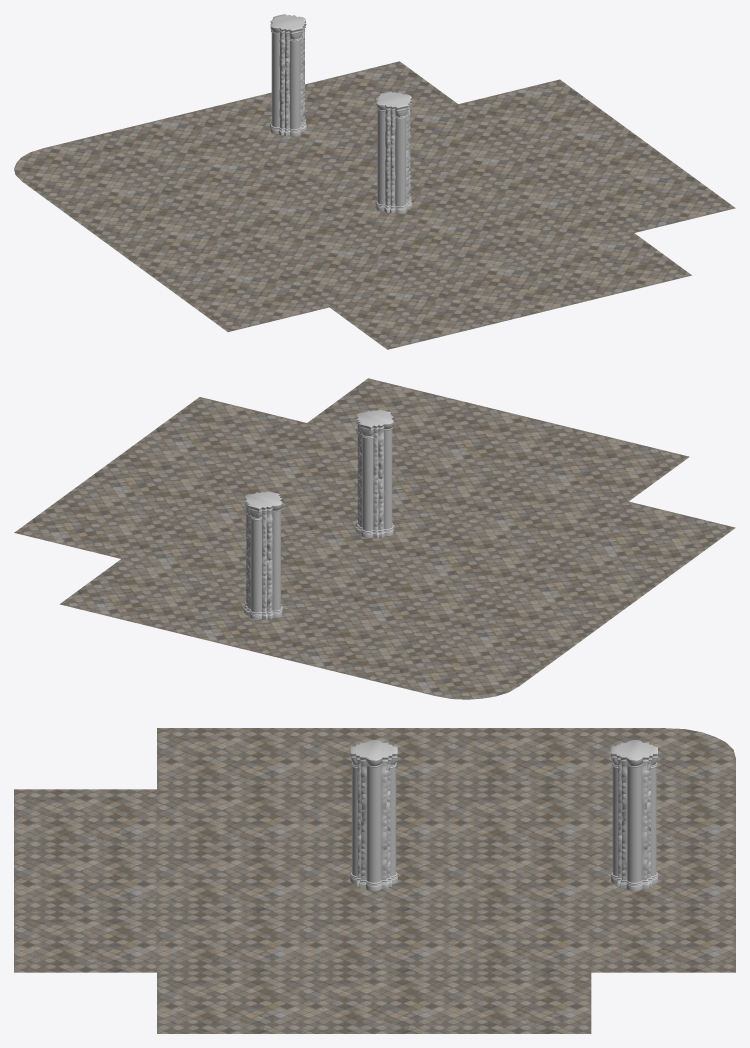
3 views of the same model, one above another, from view 1: azimuth 30°, elevation 25°; view 2: azimuth 150°, elevation 25°; view 3: azimuth 270°, elevation 25° (orthographic). The views are drawn at different scales.
Visible parts, largest first — view 1: Floor01_LOD0.002, Floor01_LOD0.004, Floor01_LOD0.001, Floor01_LOD0.006, Floor01_LOD0.017, Floor01_LOD0.005, Floor01_LOD0.010, Floor01_LOD0.011, Floor01_LOD0.003, Floor01_LOD0.012, Floor01_LOD0.018, Floor01_LOD0.020 (+12 smaller); view 2: Floor01_LOD0.003, Floor01_LOD0.011, Floor01_LOD0.017, Floor01_LOD0.002, Floor01_LOD0.004, Floor01_LOD0.005, Floor01_LOD0.006, Floor01_LOD0.010, Floor01_LOD0.012, Floor01_LOD0.016, Floor01_LOD0.007, Floor01_LOD0.020 (+12 smaller); view 3: Floor01_LOD0.014, Floor01_LOD0.001, Floor01_LOD0.004, Floor01_LOD0.010, Floor01_LOD0.011, Floor01_LOD0.012, Floor01_LOD0.013, Floor01_LOD0.005, Floor01_LOD0.006, Floor01_LOD0.008, Floor01_LOD0.009, Floor01_LOD0.016 (+12 smaller).
Part boxes in pixels (left/top/right/bottom): Floor01_LOD0.002: left=212, top=197, right=371, bottom=264; Floor01_LOD0.004: left=517, top=122, right=676, bottom=189; Floor01_LOD0.001: left=416, top=147, right=575, bottom=214; Floor01_LOD0.006: left=169, top=264, right=328, bottom=331; Floor01_LOD0.017: left=95, top=111, right=254, bottom=178; Floor01_LOD0.005: left=576, top=165, right=735, bottom=232; Floor01_LOD0.010: left=458, top=79, right=618, bottom=146; Floor01_LOD0.011: left=52, top=178, right=211, bottom=246; Floor01_LOD0.003: left=111, top=221, right=270, bottom=289; Floor01_LOD0.012: left=154, top=154, right=313, bottom=221; Floor01_LOD0.018: left=431, top=257, right=590, bottom=324; Floor01_LOD0.020: left=329, top=282, right=488, bottom=349; Floor01_LOD0.003: left=505, top=547, right=673, bottom=618; Floor01_LOD0.011: left=443, top=592, right=611, bottom=663; Floor01_LOD0.017: left=274, top=611, right=442, bottom=682; Floor01_LOD0.002: left=398, top=520, right=566, bottom=591; Floor01_LOD0.004: left=76, top=442, right=244, bottom=513; Floor01_LOD0.005: left=138, top=397, right=306, bottom=468; Floor01_LOD0.006: left=567, top=501, right=735, bottom=572; Floor01_LOD0.010: left=14, top=487, right=182, bottom=558; Floor01_LOD0.012: left=336, top=566, right=504, bottom=637; Floor01_LOD0.016: left=60, top=559, right=227, bottom=630; Floor01_LOD0.007: left=460, top=475, right=628, bottom=546; Floor01_LOD0.020: left=522, top=430, right=689, bottom=501; Floor01_LOD0.014: left=446, top=850, right=591, bottom=911; Floor01_LOD0.001: left=301, top=911, right=446, bottom=972; Floor01_LOD0.004: left=301, top=972, right=446, bottom=1033; Floor01_LOD0.010: left=446, top=972, right=591, bottom=1033; Floor01_LOD0.011: left=446, top=728, right=591, bottom=789; Floor01_LOD0.012: left=446, top=789, right=591, bottom=850; Floor01_LOD0.013: left=446, top=911, right=591, bottom=972; Floor01_LOD0.005: left=157, top=972, right=301, bottom=1033; Floor01_LOD0.006: left=157, top=728, right=301, bottom=789; Floor01_LOD0.008: left=157, top=911, right=301, bottom=972; Floor01_LOD0.009: left=157, top=850, right=301, bottom=911; Floor01_LOD0.016: left=591, top=911, right=735, bottom=972.
Size of the model in its own units: 25 by 5.02 by 24.94.
